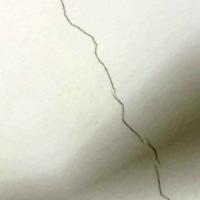crack: (55, 1, 183, 199)
